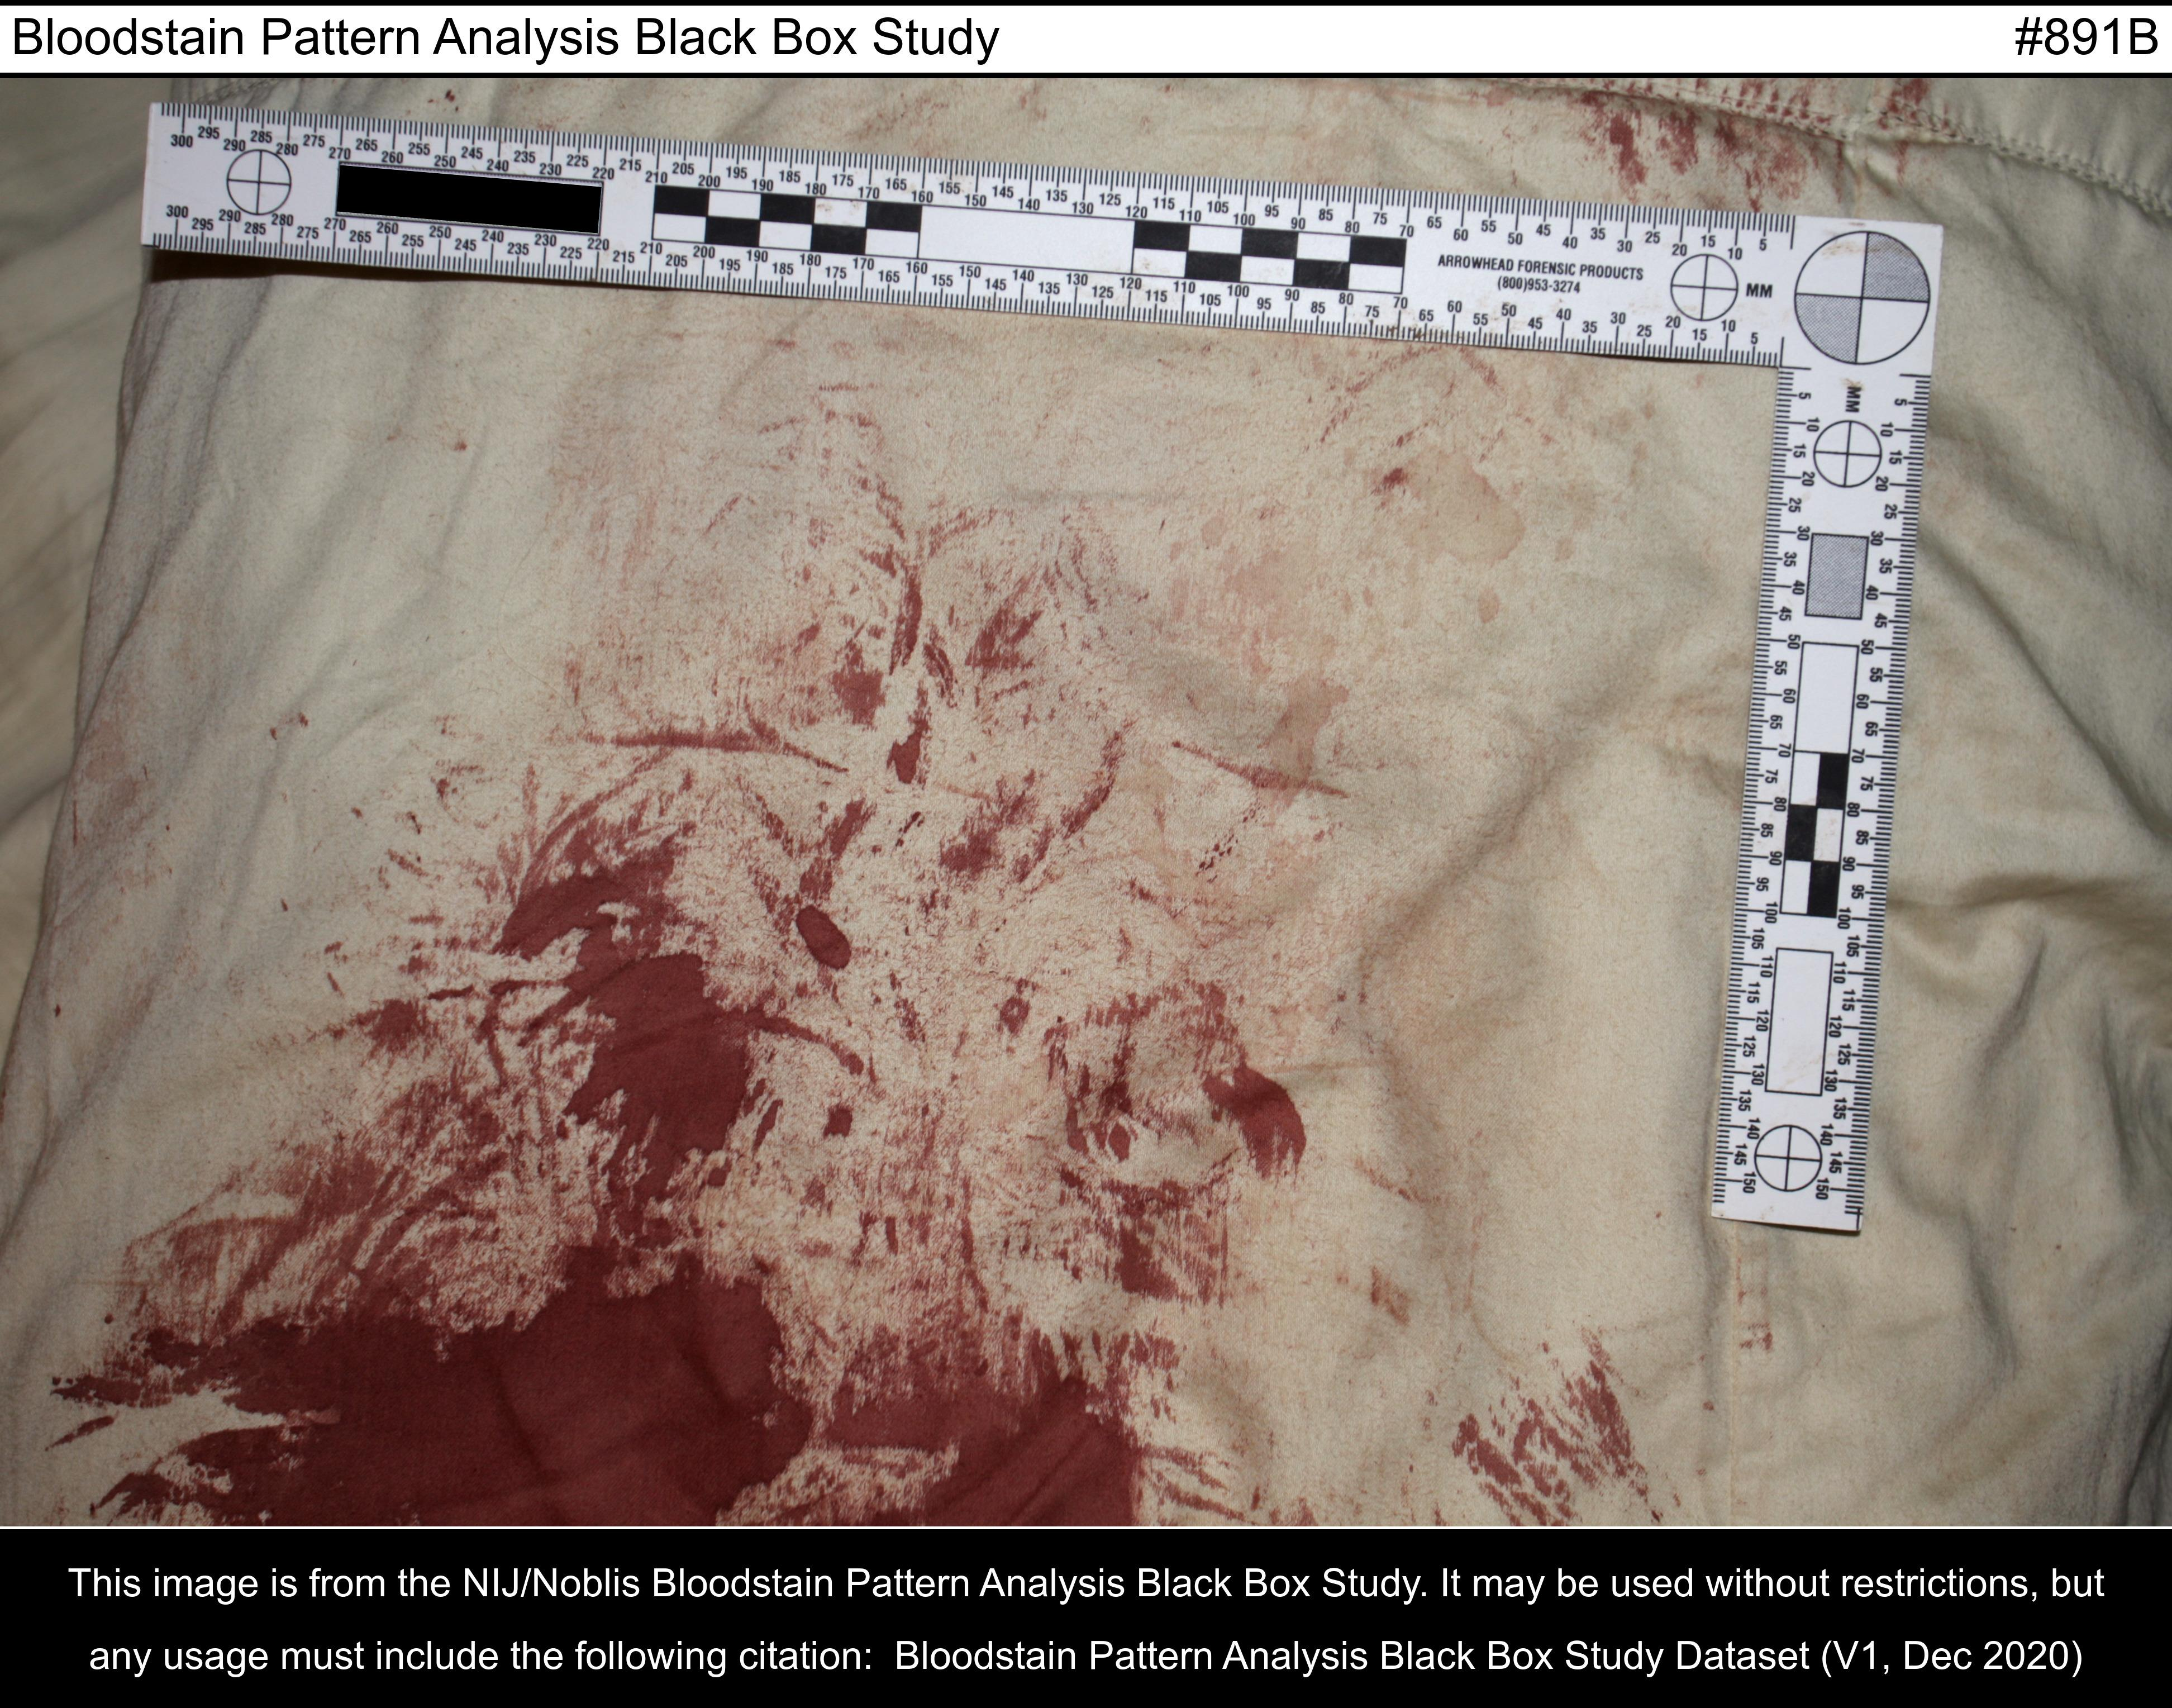Transfer: (33, 432, 1724, 1530)
